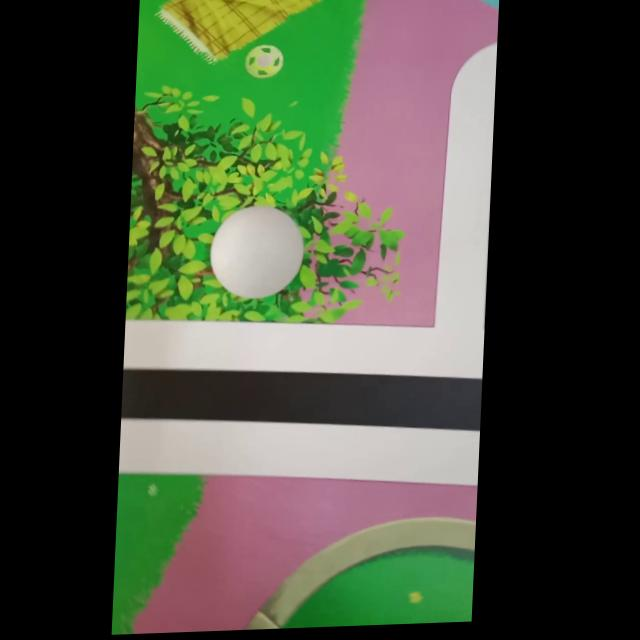white ball: (206, 203, 306, 301)
